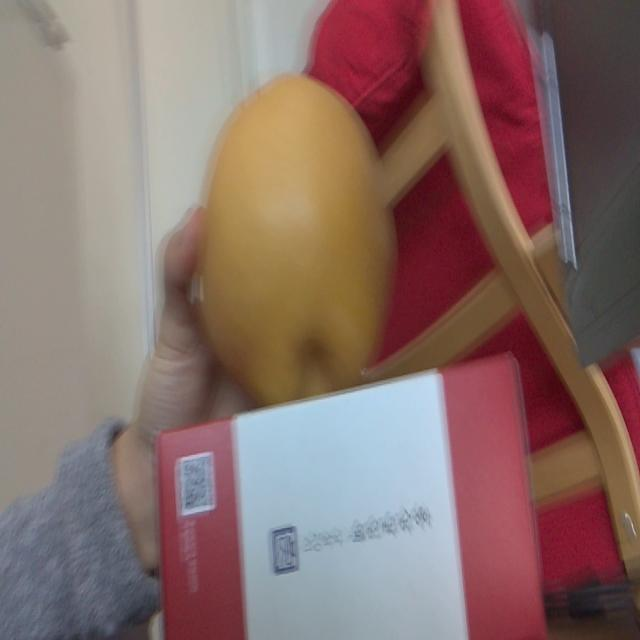pear: (198, 75, 389, 379)
